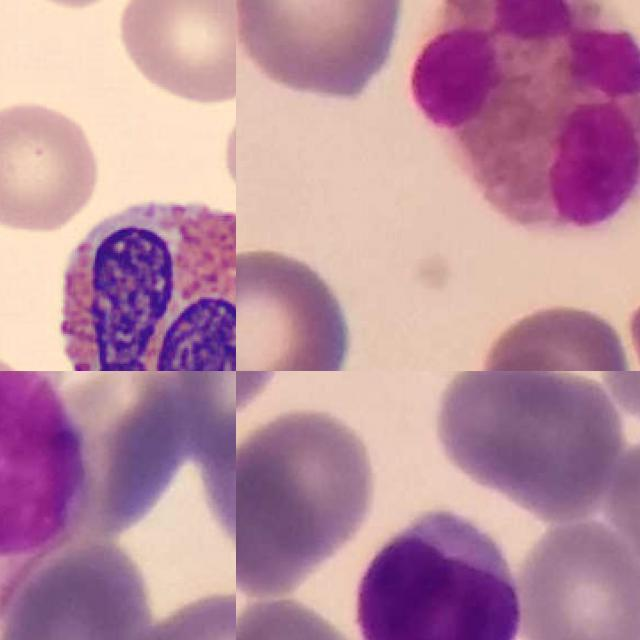Eosinophil: (406, 0, 640, 232), (36, 182, 236, 371)
Lymphocyte: (356, 508, 521, 640)
Monocyte: (0, 371, 85, 630)
RBC: (0, 97, 105, 235), (114, 0, 236, 106)
